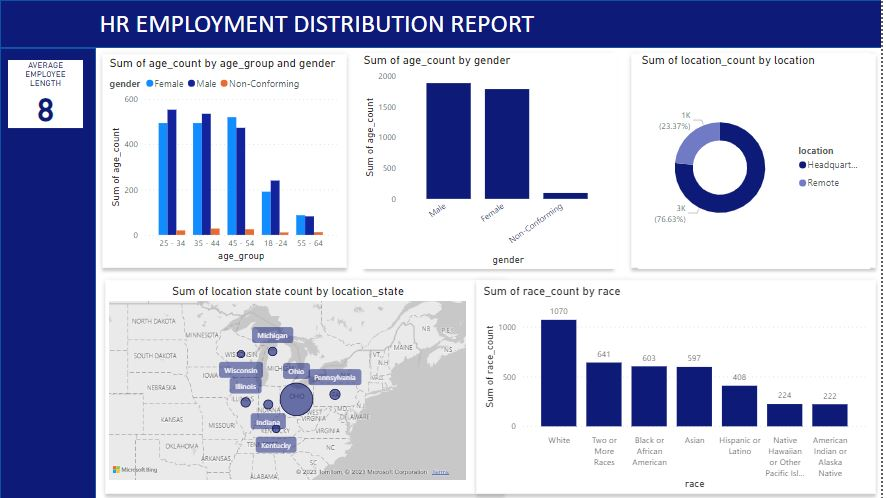

Layout of this report page (visuals, bound fields, positions):
{"tool":"powerbi","page":{"name":"Page 1","canvas":[1280,720],"ordinal":0},"visuals":[{"type":"shape","box":[10.1,0,1270.1,69.1],"z":0},{"type":"shape","box":[10.1,69.1,138.2,650.9],"z":1},{"type":"textbox","box":[148.3,5.8,685.4,57.6],"z":2},{"type":"shape","box":[148.3,69.1,370.1,325.4],"z":3},{"type":"shape","box":[525.6,69.1,377.3,325.4],"z":4},{"type":"shape","box":[909.9,69.1,370.1,325.4],"z":5},{"type":"card","title":"AVERAGE EMPLOYEE LENGTH","fields":{"Values":["Sum(avg_length_employment.employment_length)"]},"box":[21.6,86.4,108,97.9],"z":6},{"type":"columnChart","fields":{"Category":["age_gender_distribution.gender"],"Y":["Sum(age_gender_distribution.age_count)"]},"box":[528.5,76.3,370.1,311],"z":7},{"type":"donutChart","fields":{"Category":["location_distribution.location"],"Y":["Sum(location_distribution.location_count)"]},"box":[928.8,76.3,334.1,311],"z":8},{"type":"shape","box":[152.6,394.6,593.3,325.4],"z":9},{"type":"shape","box":[686.9,394.6,593.3,325.4],"z":10},{"type":"map","title":"Sum of location state count by location_state","fields":{"Category":["location_state.location_state"],"Size":["Sum(location_state.location_state_count)"]},"box":[162.7,409,524.2,286.6],"z":11},{"type":"columnChart","fields":{"Category":["race_breakdown.race"],"Y":["Sum(race_breakdown.race_count)"]},"box":[701.3,409,561.6,301],"z":12},{"type":"clusteredColumnChart","fields":{"Category":["age_gender_distribution.age_group"],"Y":["Sum(age_gender_distribution.age_count)"],"Series":["age_gender_distribution.gender"]},"box":[162.7,80.6,338.4,301],"z":13}]}

Visuals, with their boxes in screenshot pixels (x1, y1, x2, y2), scaled from the page's 1280x720 canvas onto the 887x498 screenshot:
shape: [7,0,886,48]
shape: [7,48,103,497]
textbox: [103,4,578,44]
shape: [103,48,359,273]
shape: [364,48,626,273]
shape: [631,48,886,273]
"AVERAGE EMPLOYEE LENGTH" card: [15,60,90,127]
columnChart - age_gender_distribution.gender x Sum(age_gender_distribution.age_count): [366,53,623,268]
donutChart - location_distribution.location x Sum(location_distribution.location_count): [644,53,875,268]
shape: [106,273,517,497]
shape: [476,273,886,497]
"Sum of location state count by location_state" map: [113,283,476,481]
columnChart - race_breakdown.race x Sum(race_breakdown.race_count): [486,283,875,491]
clusteredColumnChart - age_gender_distribution.age_group x Sum(age_gender_distribution.age_count): [113,56,347,264]
